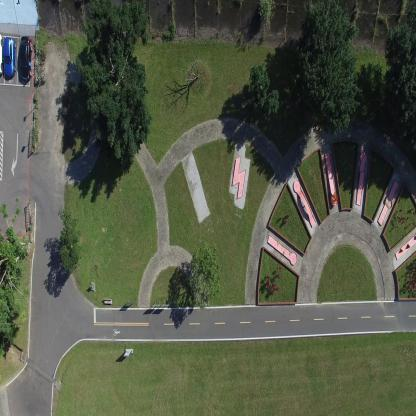car: (18, 34, 32, 80), (3, 36, 16, 76), (0, 31, 3, 76)
